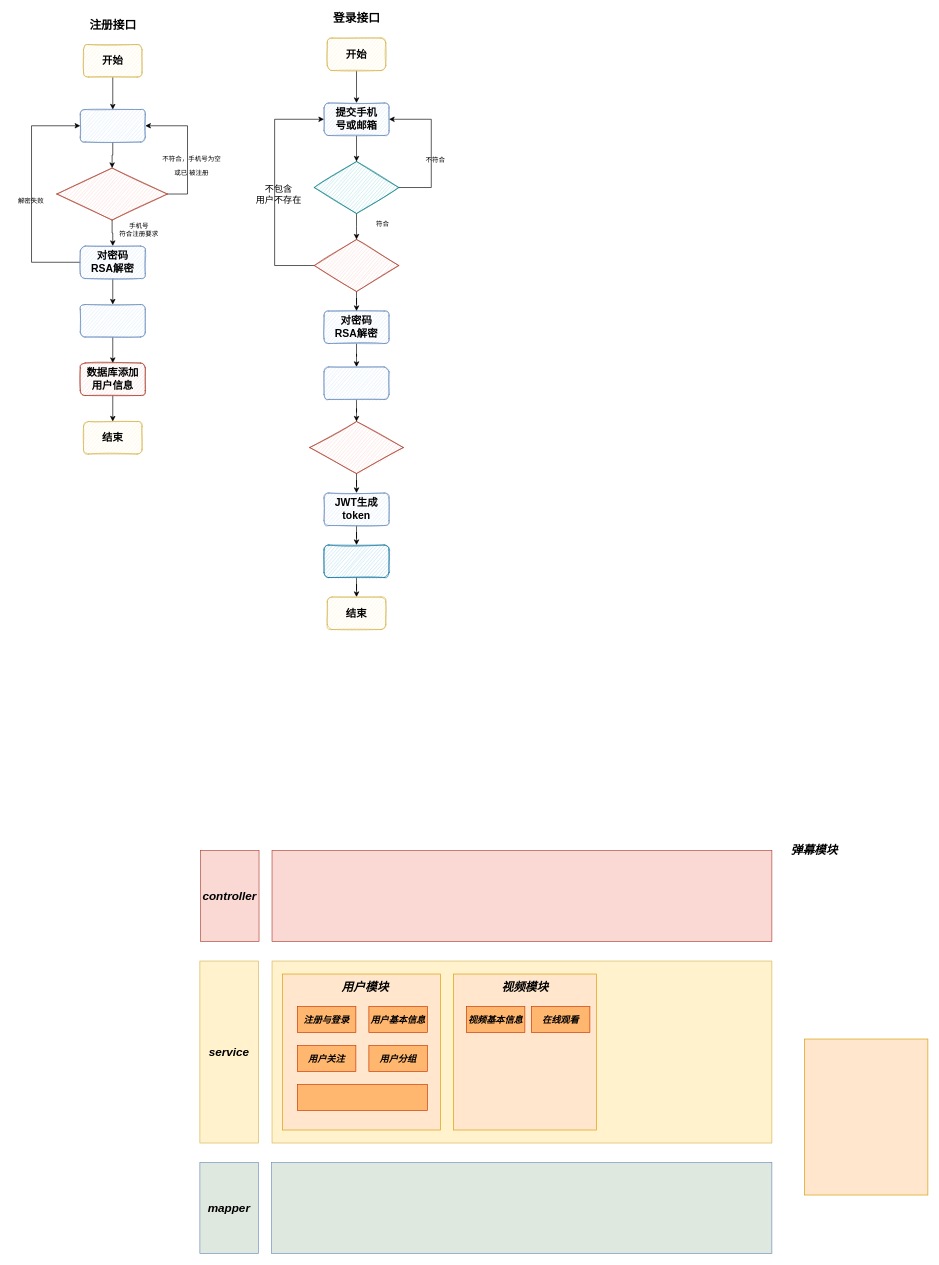
Some shapes in this 939 by 1265 pixel diagram are drawn without their labels. Each missing label, with the box of its shape:
加入盐值对密 码MD5加密: (80, 304, 145, 337)
提交手机号: (80, 109, 145, 142)
权限认证: (297, 1084, 427, 1111)
查询数据库判断 用户密码是否正确: (309, 421, 403, 474)
查询数据库是 否包含该用户: (314, 239, 399, 292)
查询盐值 对 密码MD5解密: (323, 366, 389, 399)
校验手机 号或邮箱: (314, 161, 399, 214)
校验手机号查询 数据库手机是否被注册: (56, 167, 167, 220)
返回token 登录成功: (323, 544, 389, 578)
